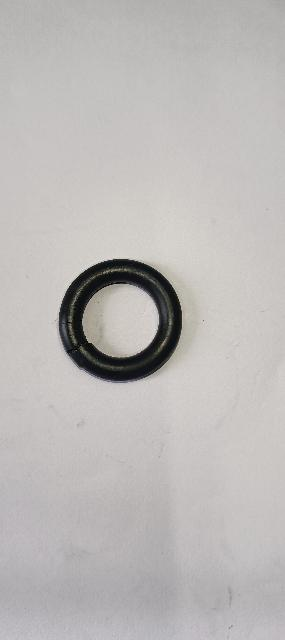crack: (59, 337, 91, 355)
scratch: (44, 318, 93, 327)
